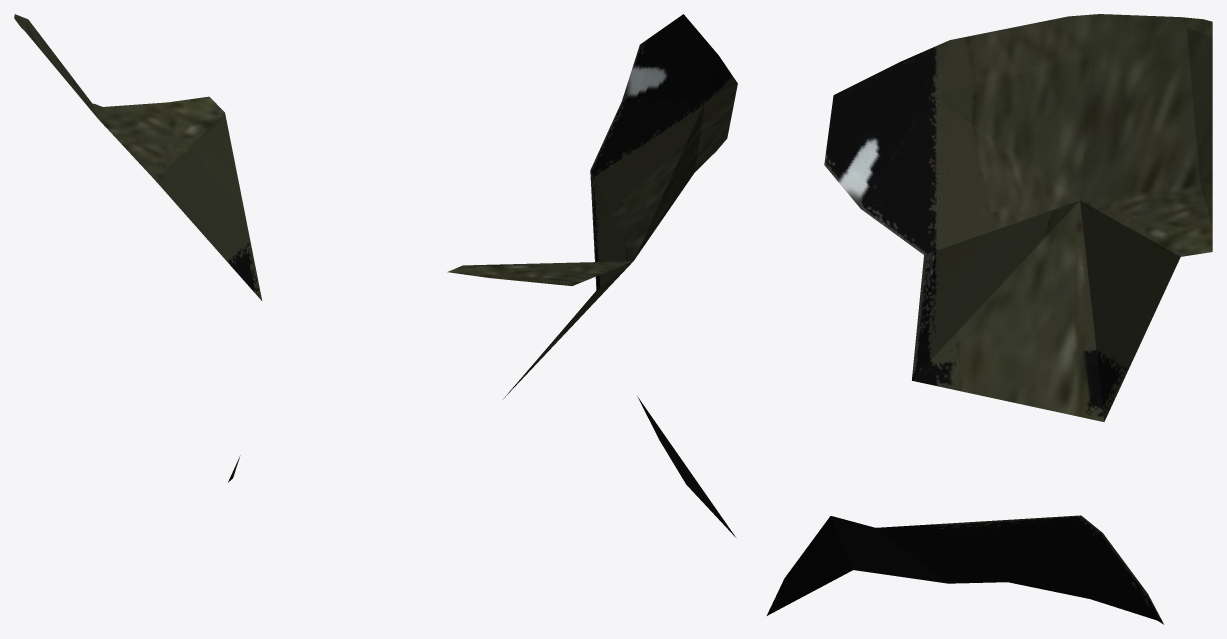
The picture shows the model from 3 angles, left to right: view 1: azimuth 30°, elevation 25°; view 2: azimuth 150°, elevation 25°; view 3: azimuth 270°, elevation 25°; orthographic projection. The views are drawn at different scales.
Bounding box in the file's own units: 0.7449 × 1.67 × 1.34.
Materials: 2 (2 with a texture image).
